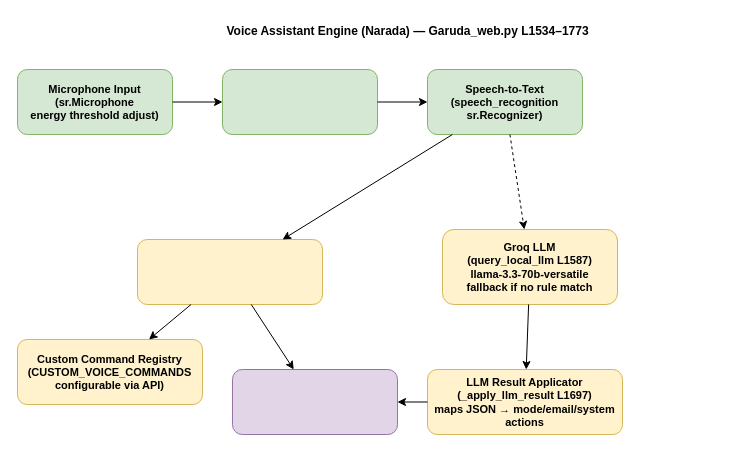
This 745x452 diagram has some shape labels left out. Here are the shapes that lost their labels. From the top down, the centre of each, then its label:
point 300,101: Wake Word Detector NARADA_WAKE_WORD default: "narada"
point 229,271: Rule-Based Dispatcher (apply_rule_based_command L1534) tries rules first
point 315,401: Voice Log Writer (voice_assistant_log voice_responses → perm_voice_log.txt)
